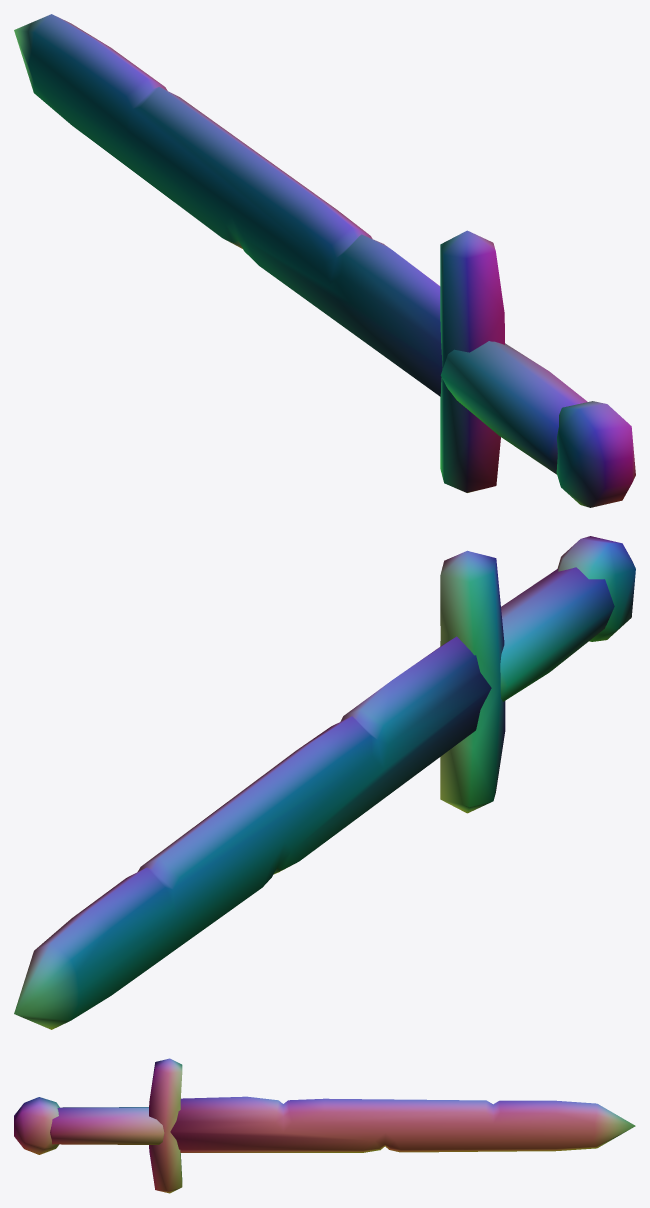
The model's file is SM_MonWeapon_Sword_LOD1.fbx.
3 renders of one model, top to bottom at view 1: azimuth 30°, elevation 25°; view 2: azimuth 150°, elevation 25°; view 3: azimuth 270°, elevation 25°, orthographic. The views are drawn at different scales.
Parts seen in each view (by area): view 1: SM_MonWeapon_Sword_LOD1; view 2: SM_MonWeapon_Sword_LOD1; view 3: SM_MonWeapon_Sword_LOD1.
Boxes of the visible parts, box(x1,y1,x2,y2) form: SM_MonWeapon_Sword_LOD1: box(14, 14, 635, 507); SM_MonWeapon_Sword_LOD1: box(14, 536, 635, 1029); SM_MonWeapon_Sword_LOD1: box(14, 1058, 635, 1193).
Bounding box in the file's own units: 0.0627 × 0.234 × 0.9763.
